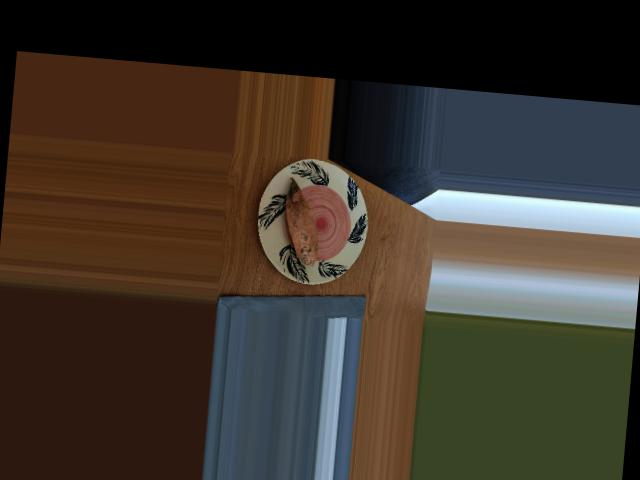sweet_potato: (273, 184, 328, 264)
